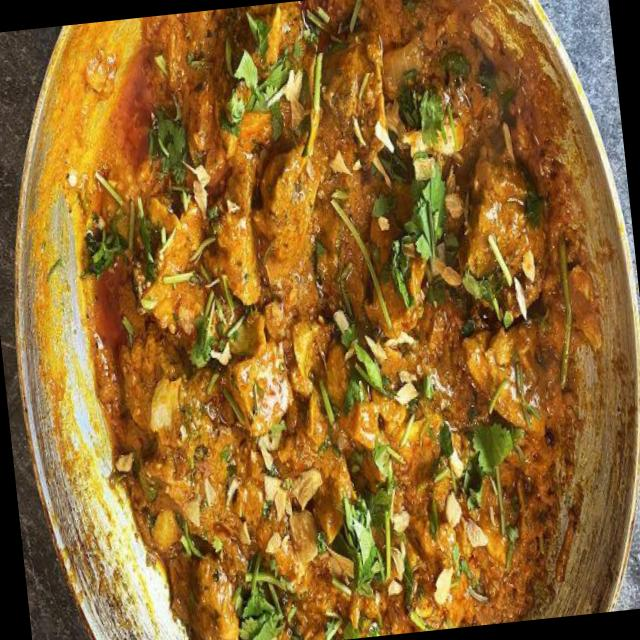chicken: (48, 0, 634, 640)
